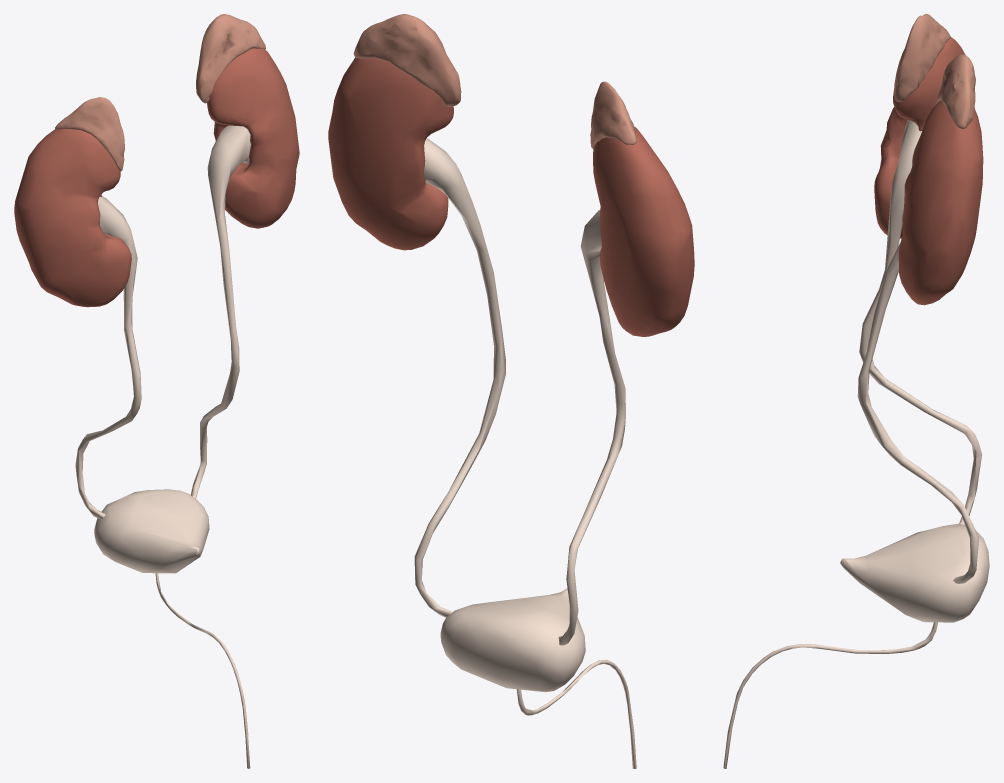
Rendered from body-urinary.glb.
3 views of the same model, side by side, from view 1: azimuth 30°, elevation 25°; view 2: azimuth 150°, elevation 25°; view 3: azimuth 270°, elevation 25° (orthographic). The views are drawn at different scales.
Parts seen in each view (by area): view 1: FJ3147, FJ3145, FJ3149, FJ3144, FJ3146, FJ3129, FJ3130, FJ3148; view 2: FJ3145, FJ3147, FJ3149, FJ3144, FJ3129, FJ3146, FJ3130, FJ3148; view 3: FJ3145, FJ3149, FJ3146, FJ3147, FJ3144, FJ3130, FJ3129, FJ3148.
Boxes of the visible parts, left/top/right/bottom form: FJ3147: left=14, top=129, right=131, bottom=307; FJ3145: left=207, top=48, right=299, bottom=228; FJ3149: left=94, top=489, right=209, bottom=573; FJ3144: left=190, top=125, right=250, bottom=498; FJ3146: left=75, top=196, right=141, bottom=519; FJ3129: left=196, top=14, right=265, bottom=103; FJ3130: left=55, top=97, right=124, bottom=171; FJ3148: left=155, top=573, right=250, bottom=768; FJ3145: left=328, top=57, right=453, bottom=250; FJ3147: left=593, top=126, right=694, bottom=336; FJ3149: left=440, top=588, right=585, bottom=692; FJ3144: left=414, top=138, right=505, bottom=617; FJ3129: left=353, top=14, right=461, bottom=106; FJ3146: left=558, top=210, right=625, bottom=645; FJ3130: left=590, top=81, right=636, bottom=149; FJ3148: left=516, top=659, right=636, bottom=768; FJ3145: left=898, top=100, right=983, bottom=305; FJ3149: left=840, top=523, right=989, bottom=622; FJ3146: left=859, top=120, right=981, bottom=525; FJ3147: left=874, top=37, right=965, bottom=238; FJ3144: left=857, top=242, right=978, bottom=583; FJ3130: left=894, top=14, right=950, bottom=102; FJ3129: left=935, top=54, right=975, bottom=128; FJ3148: left=723, top=622, right=937, bottom=768.
Bounding box in the file's own units: 0.1781 × 0.3996 × 0.1277.
